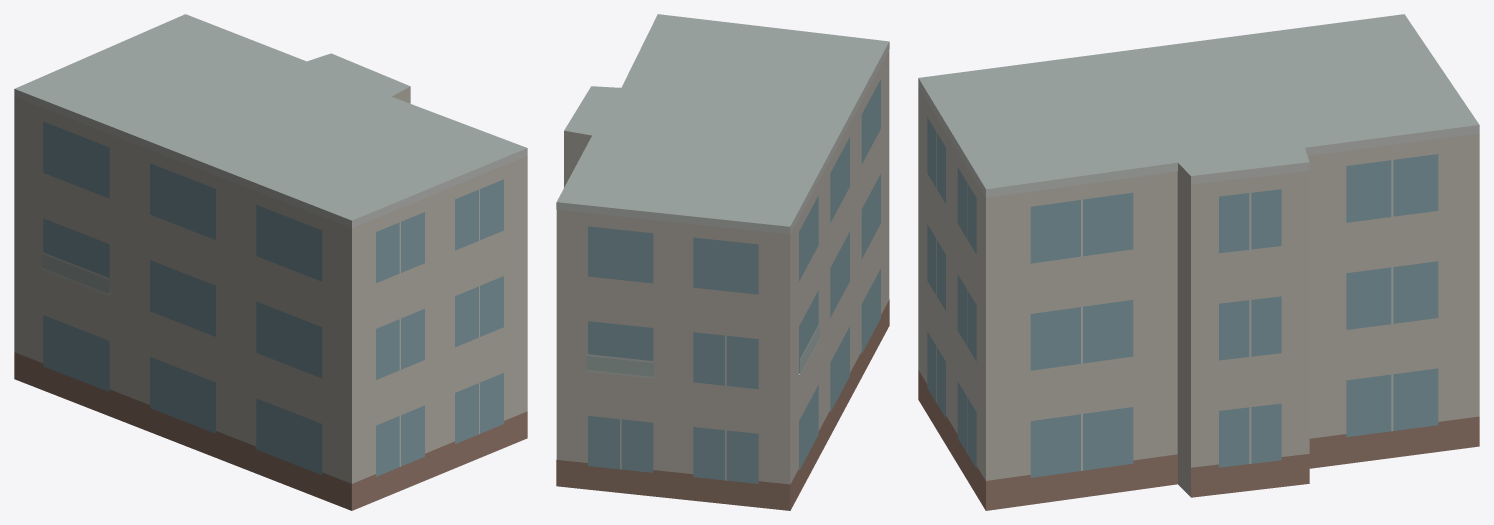
The model's file is survey-upis-32610118.glb.
The picture shows the model from 3 angles, left to right: view 1: azimuth 30°, elevation 25°; view 2: azimuth 150°, elevation 25°; view 3: azimuth 270°, elevation 25°; orthographic projection. The views are drawn at different scales.
Parts seen in each view (by area): view 1: survey-upis-32610118.tmp; view 2: survey-upis-32610118.tmp; view 3: survey-upis-32610118.tmp.
Boxes of the visible parts, x1,y1,x2,y2 form: survey-upis-32610118.tmp: [14, 14, 527, 510]; survey-upis-32610118.tmp: [556, 14, 889, 510]; survey-upis-32610118.tmp: [918, 14, 1479, 510].
Size of the model in its own units: 10.71 by 9.15 by 14.48.
